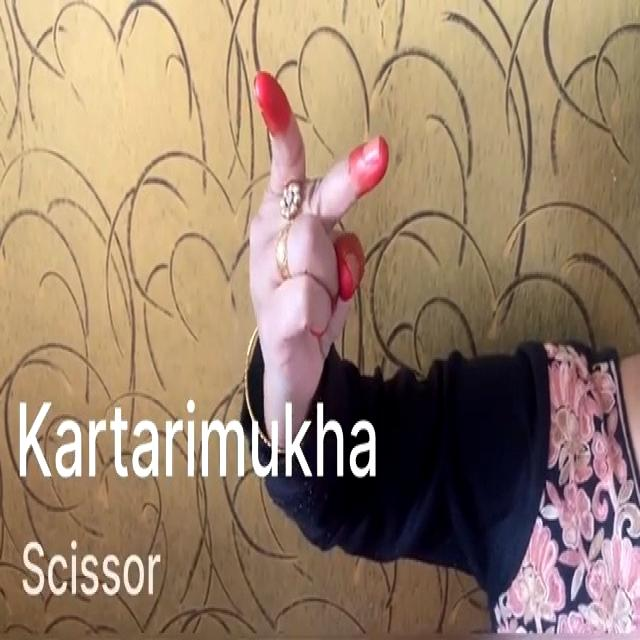Kartarimukha: (216, 24, 413, 390)
text: (14, 391, 383, 496), (17, 528, 166, 604)
